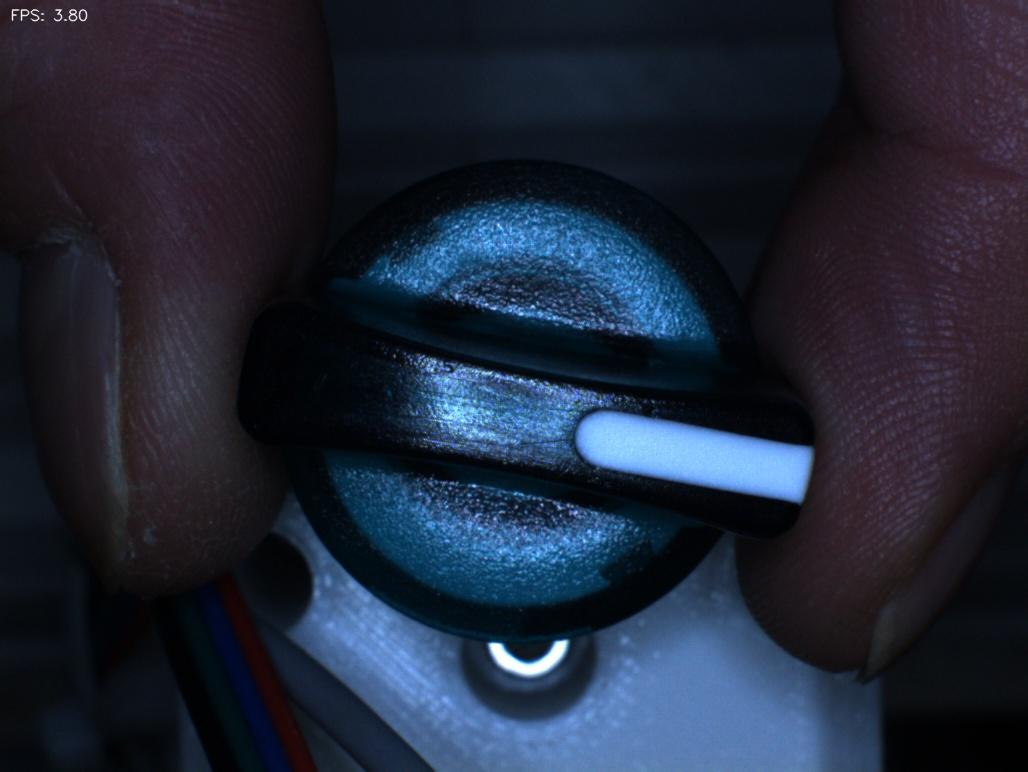Choc: (602, 359, 684, 447)
